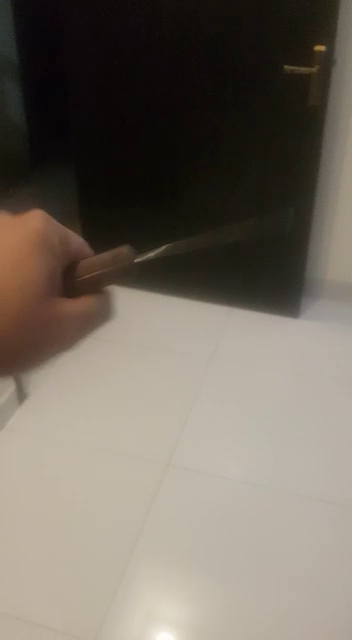knife: (3, 152, 337, 451)
